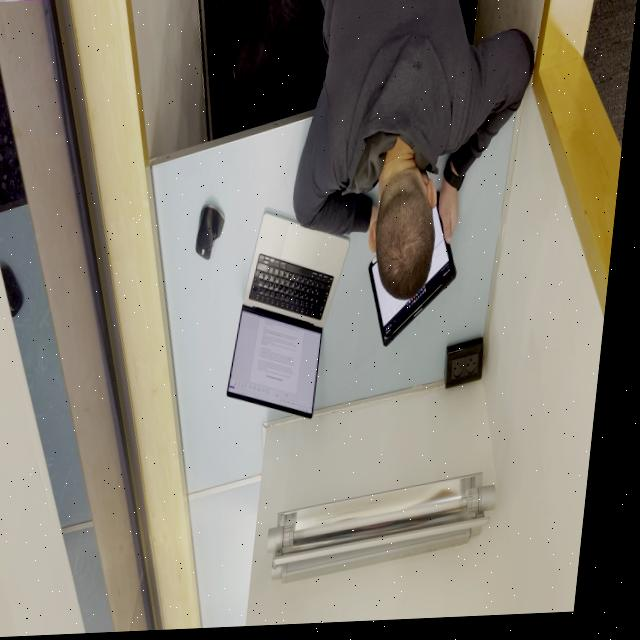bag: (368, 195, 471, 354)
ipad: (211, 0, 547, 328)
laptop: (233, 211, 359, 427)
mouse: (200, 206, 232, 264)
